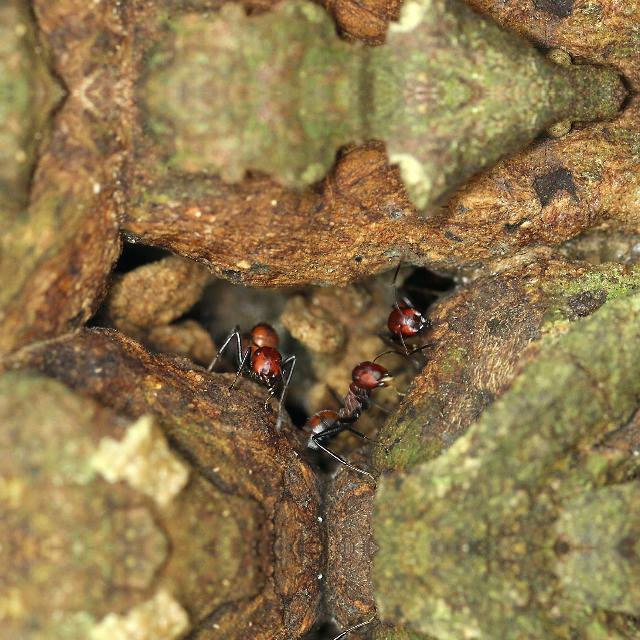Colobopsis: (298, 344, 422, 472), (206, 305, 314, 399), (364, 282, 440, 361)
